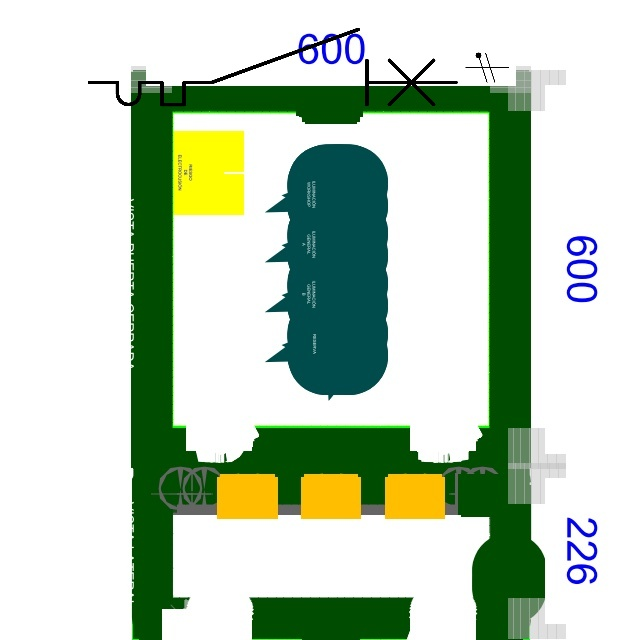interruptor_termomagnetico: (80, 20, 465, 114)
